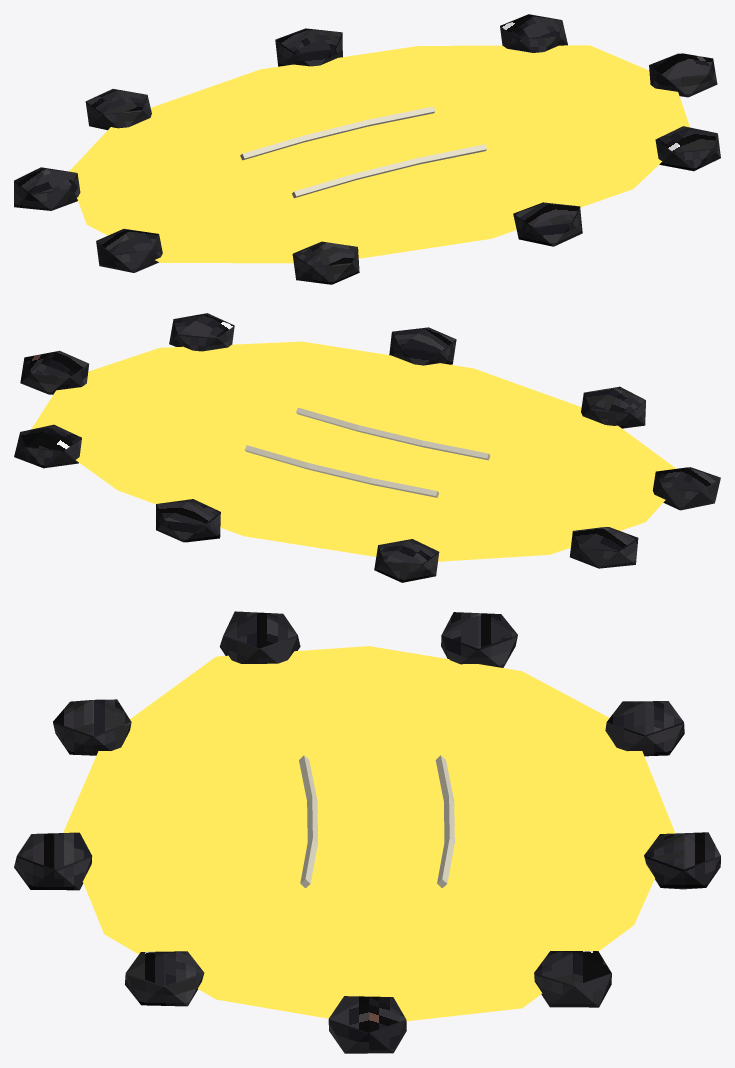
Rendered from enfeite_lago.fbx.
3 views of the same model, one above another, from view 1: azimuth 30°, elevation 25°; view 2: azimuth 150°, elevation 25°; view 3: azimuth 270°, elevation 25° (orthographic). The views are drawn at different scales.
Parts seen in each view (by area): view 1: vulcao_enfeite_lago; view 2: vulcao_enfeite_lago; view 3: vulcao_enfeite_lago.
Part boxes in pixels (box(x1,y1,x2,y2)): vulcao_enfeite_lago: box(14, 14, 720, 284); vulcao_enfeite_lago: box(14, 313, 720, 582); vulcao_enfeite_lago: box(14, 611, 720, 1053).
Size of the model in its own units: 154 by 9.51 by 109.
Materials: 3 (1 with a texture image).
